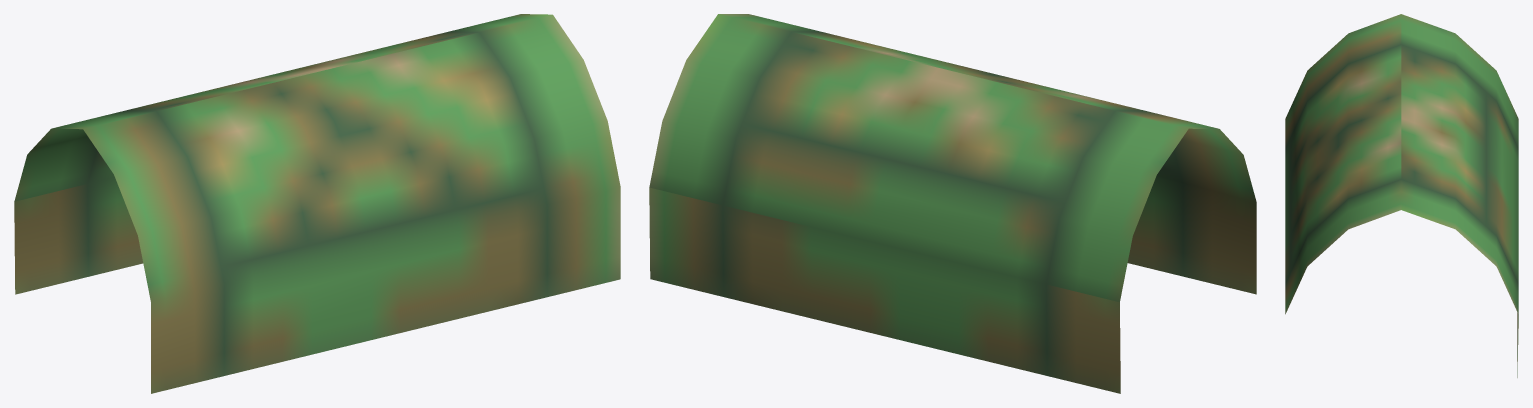
File: arch-16x8x8.obj
The picture shows the model from 3 angles, left to right: view 1: azimuth 30°, elevation 25°; view 2: azimuth 150°, elevation 25°; view 3: azimuth 270°, elevation 25°; orthographic projection. The views are drawn at different scales.
Visible parts, largest first — view 1: Default; view 2: Default; view 3: Default.
Boxes of the visible parts, x1,y1,x2,y2 form: Default: (14, 14, 620, 393); Default: (649, 14, 1256, 393); Default: (1285, 14, 1518, 377).
Size of the model in its own units: 1 by 0.4375 by 0.5034.
